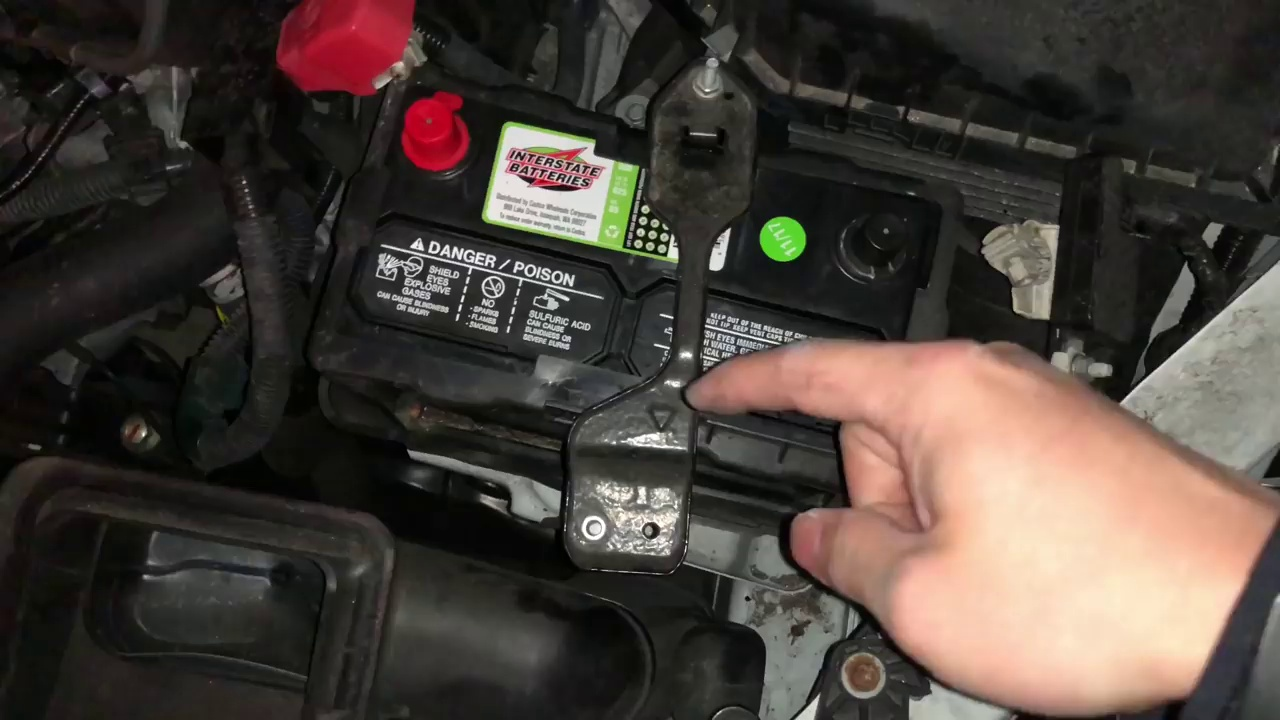battery: (374, 60, 946, 501)
neg_disconnected: (833, 169, 1075, 333)
pos_disconnected: (255, 9, 489, 195)
